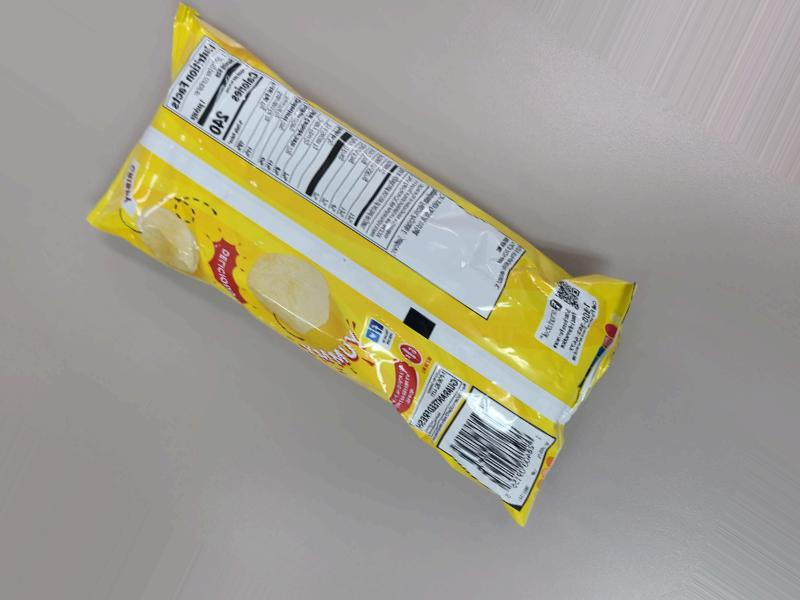lays: (142, 0, 625, 598)
